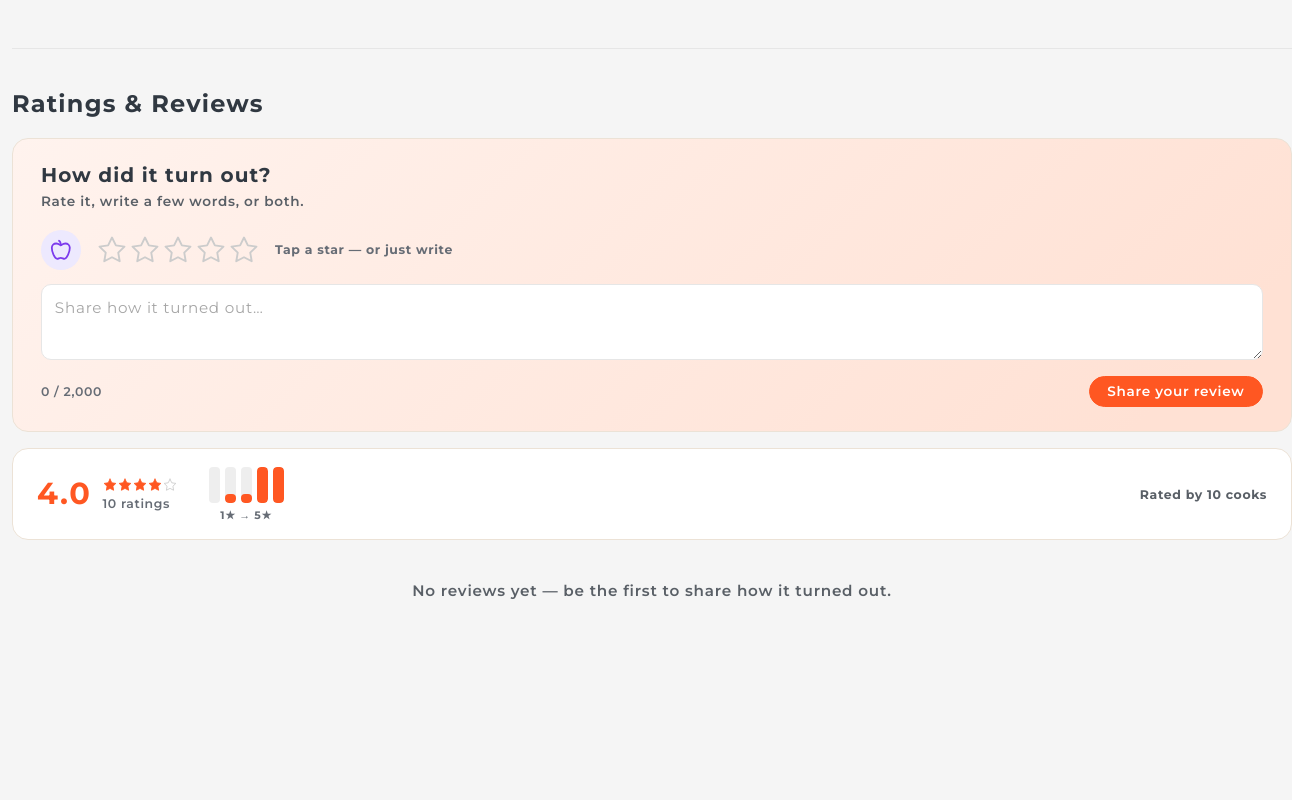
Test: RatingsAndReviews integration › submit → own card flow › posting a review flips the invitation slot to the own-review card
Expected: the heading "How did it turn out?" is shown, [41, 163, 272, 187]
Type "My own review text" into the text box at [652, 322], box [41, 284, 1263, 360]
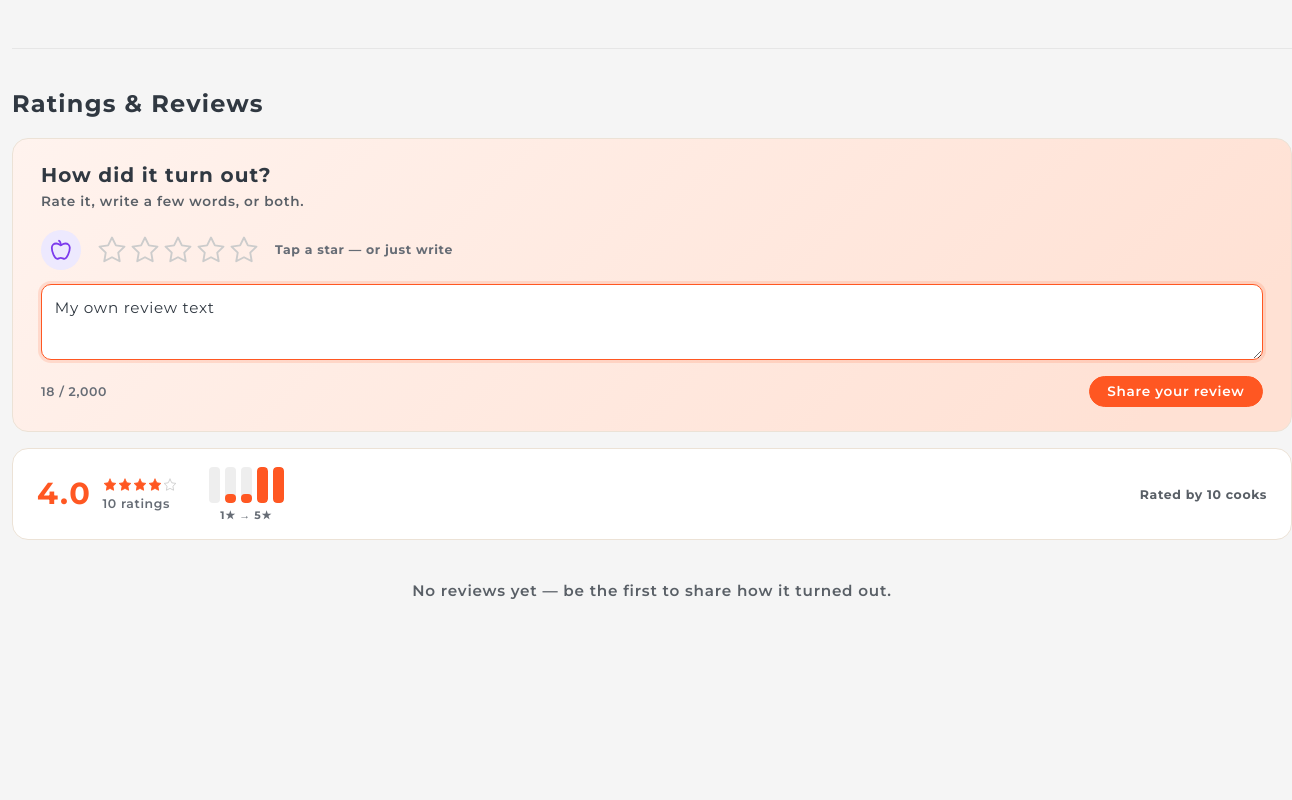
Click the button "Share your review" at [1176, 391], box [1089, 376, 1263, 407]
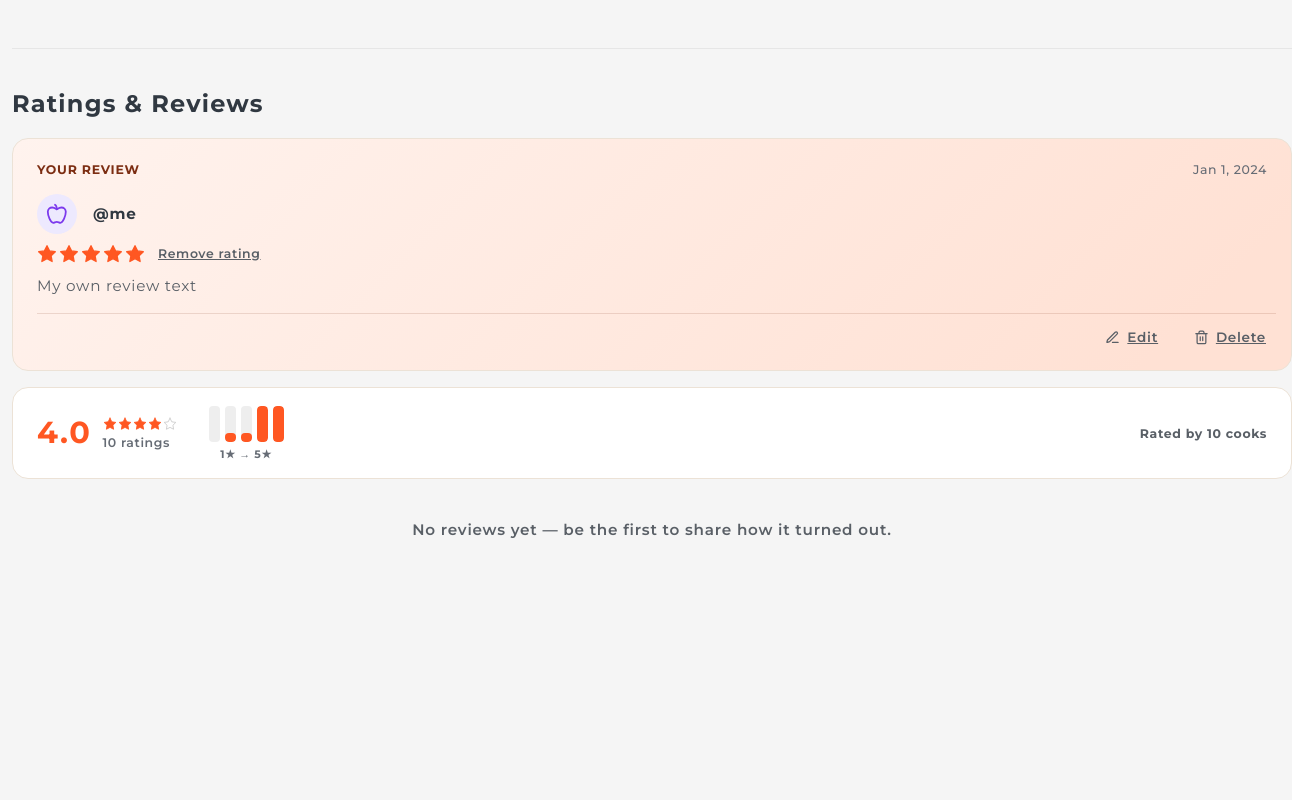
Expected: the text "Your review" is shown, [37, 159, 140, 181]
Expected: the text "My own review text" is shown, [37, 276, 197, 295]
